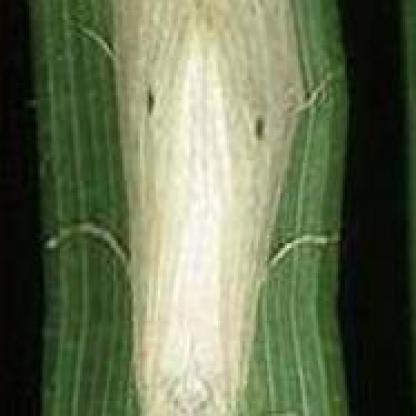stem-borer: (92, 0, 316, 416)
